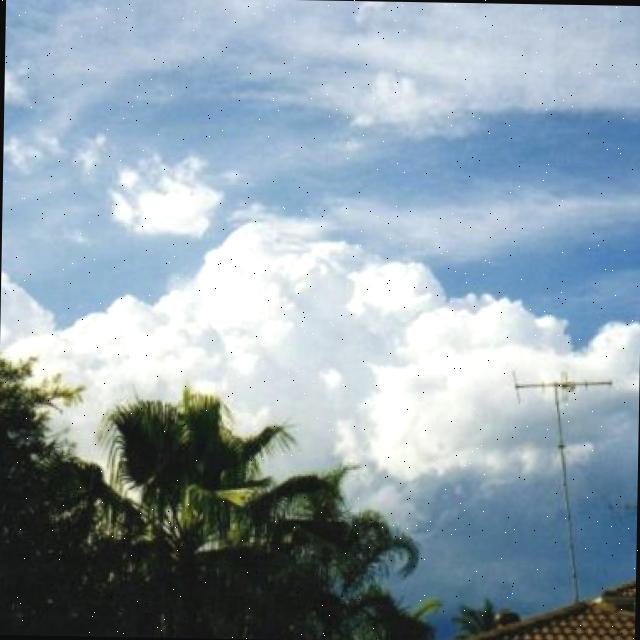Cs: (1, 42, 640, 410)
